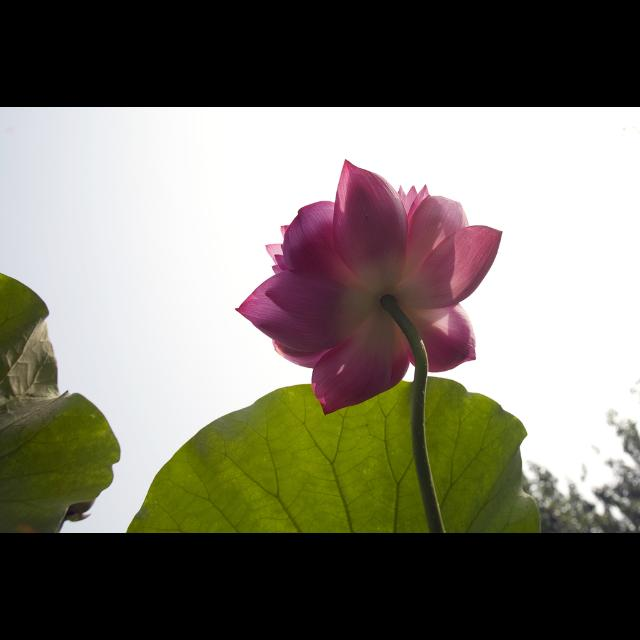Flower: (233, 178, 482, 404)
